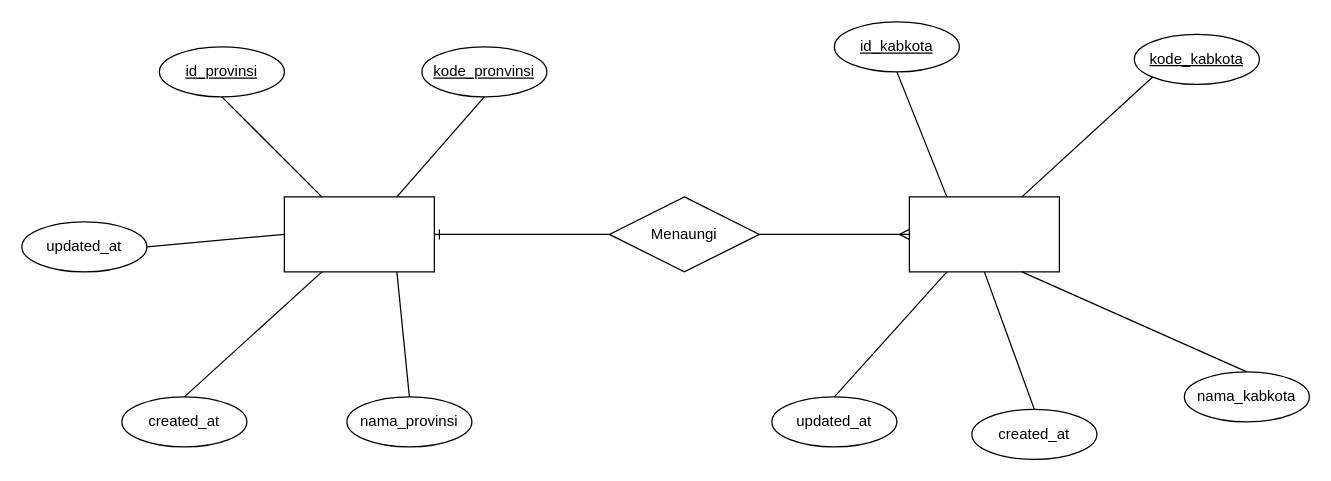
This 1331x481 diagram has some shape labels left out. The centre of each missing label's shape, as x and y in pixels:
tbl_kota: the point at 983,234
tbl_provinsi: the point at 358,234
